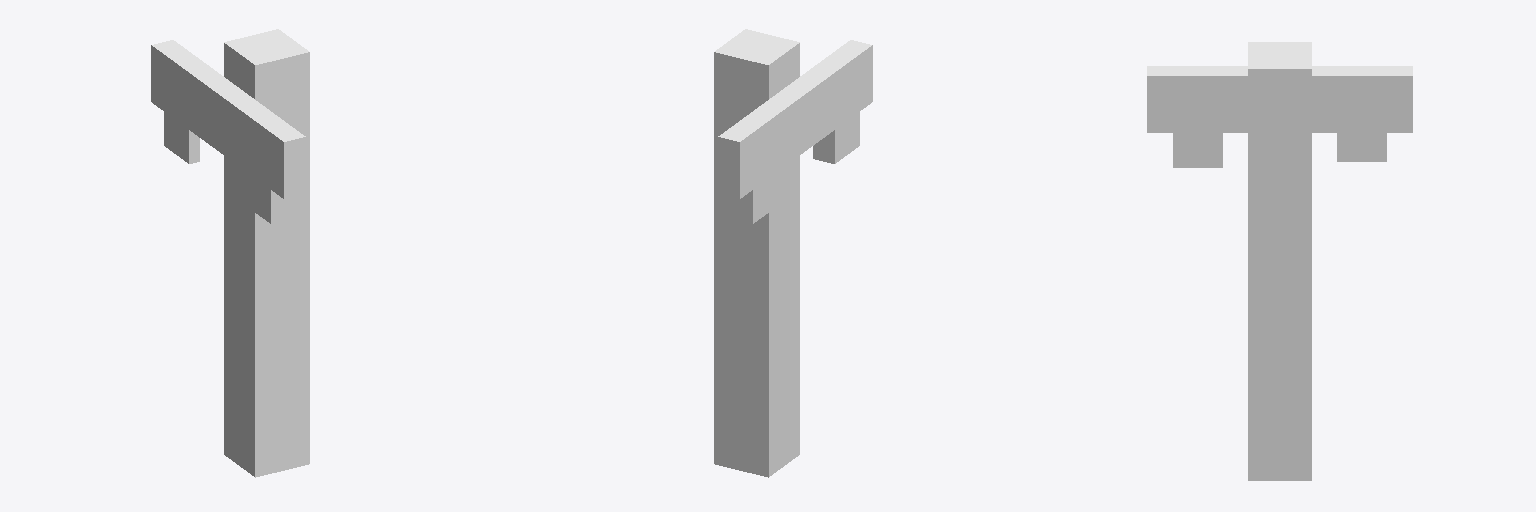
Rendered from train_post.obj.
The picture shows the model from 3 angles: view 1: azimuth 30°, elevation 25°; view 2: azimuth 150°, elevation 25°; view 3: azimuth 270°, elevation 25°; orthographic projection.
Visible parts, largest first — view 1: object 1; view 2: object 1; view 3: object 1.
Part boxes in pixels (left/top/right/bottom): object 1: left=151, top=29, right=309, bottom=477; object 1: left=714, top=29, right=872, bottom=477; object 1: left=1147, top=42, right=1412, bottom=480.
Size of the model in its own units: 0.7 by 3.6 by 2.1.